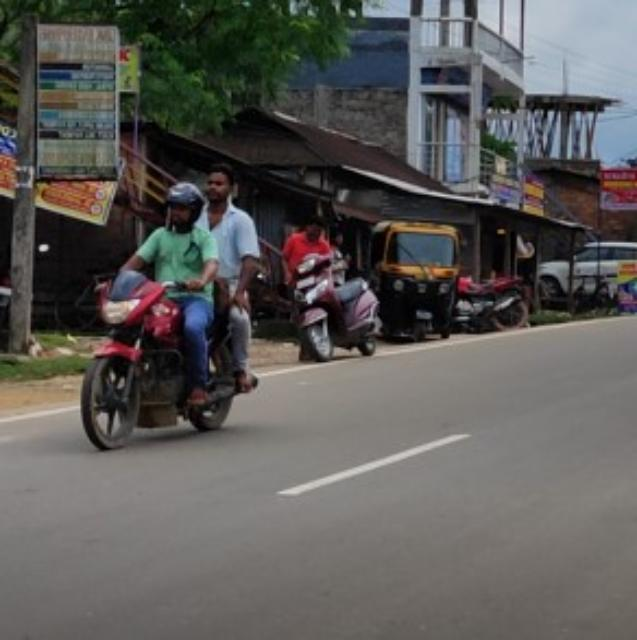motorcycle: (80, 160, 261, 462)
withHelmet: (162, 185, 201, 235)
withoutHelmet: (203, 163, 238, 204)
